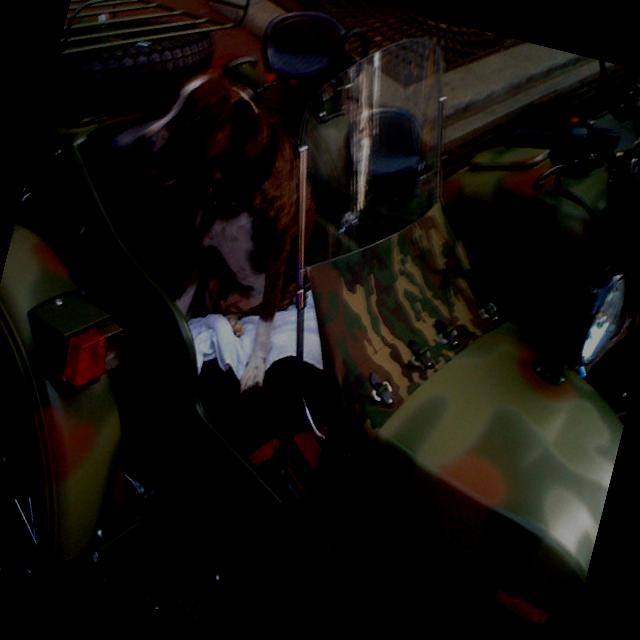Vehicle: (0, 0, 640, 640), (384, 28, 640, 448)
